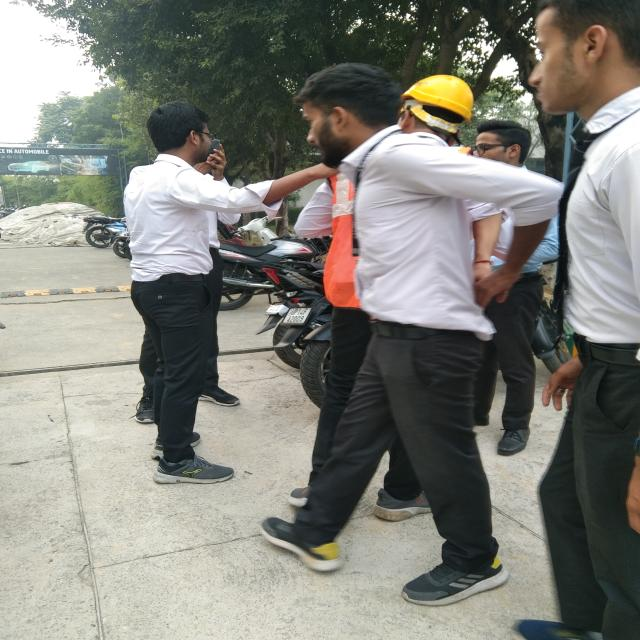unsafe: (292, 64, 515, 611), (519, 8, 640, 639), (118, 102, 272, 490)
